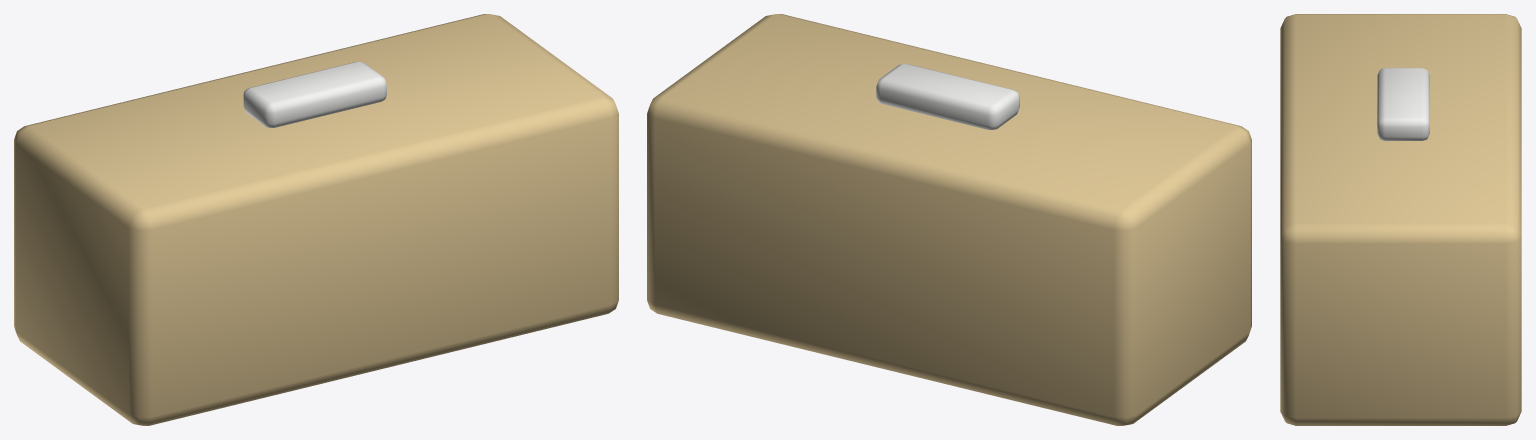
The model's file is recbZpMC7w80AfBEm.glb.
3 renders of one model, left to right at view 1: azimuth 30°, elevation 25°; view 2: azimuth 150°, elevation 25°; view 3: azimuth 270°, elevation 25°, orthographic. The views are drawn at different scales.
Parts seen in each view (by area): view 1: mouchoirs_vasque_douche_etage_Corps; view 2: mouchoirs_vasque_douche_etage_Corps; view 3: mouchoirs_vasque_douche_etage_Corps.
Part boxes in pixels (left/top/right/bottom): mouchoirs_vasque_douche_etage_Corps: left=14, top=14, right=618, bottom=425; mouchoirs_vasque_douche_etage_Corps: left=647, top=14, right=1251, bottom=425; mouchoirs_vasque_douche_etage_Corps: left=1280, top=14, right=1521, bottom=425.
Bounding box in the file's own units: 0.2 × 0.096 × 0.092.
